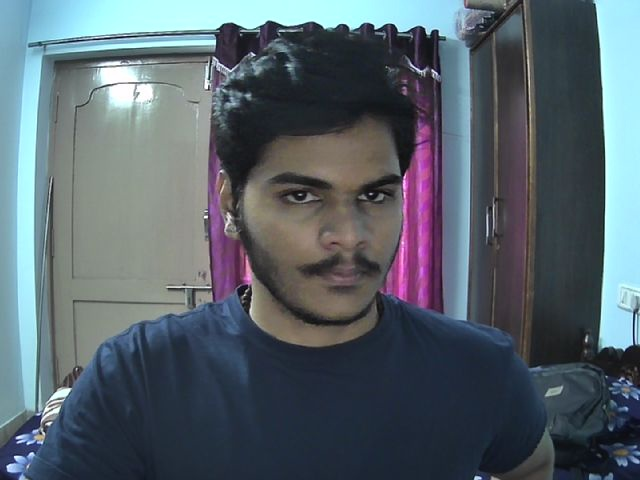NoMask: (219, 209, 416, 331)
